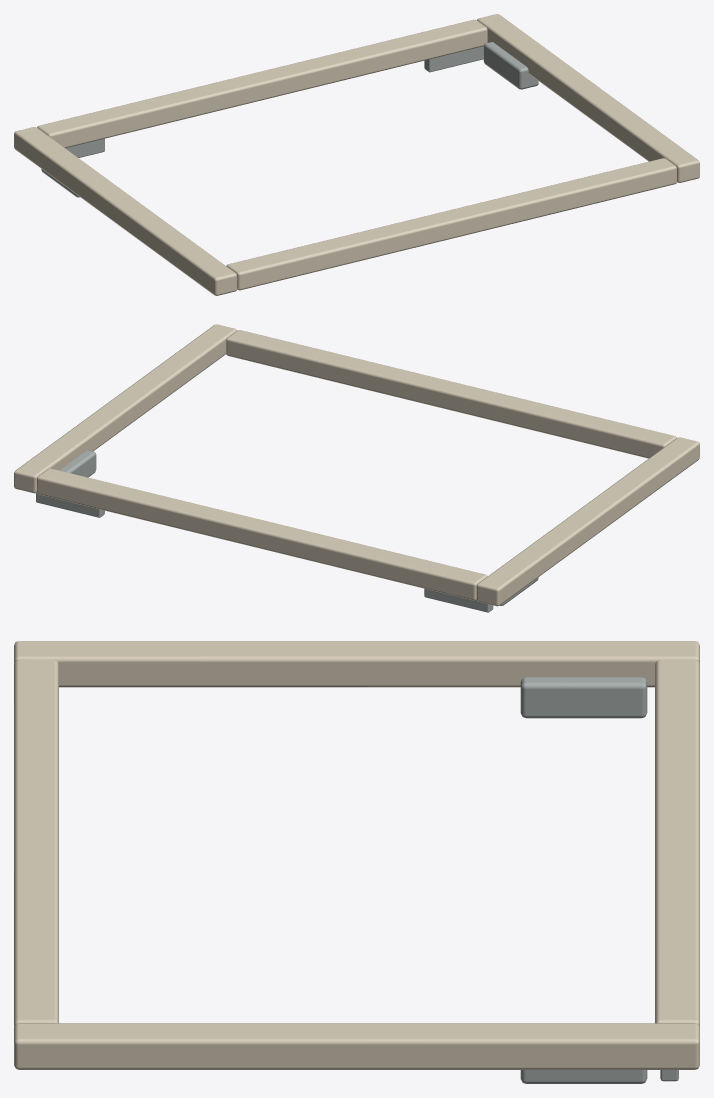
The model's file is museum-conservation-and-art-restoration-museum-conserv-e2537fd8__31880.glb.
3 views of the same model, one above another, from view 1: azimuth 30°, elevation 25°; view 2: azimuth 150°, elevation 25°; view 3: azimuth 270°, elevation 25° (orthographic). The views are drawn at different scales.
Parts seen in each view (by area): view 1: museum-conservation-and-art-restoration-canvas-tensioning-fr (×2); view 2: museum-conservation-and-art-restoration-canvas-tensioning-fr (×2); view 3: museum-conservation-and-art-restoration-canvas-tensioning-fr (×2).
Part boxes in pixels (box(x1,y1,x2,y2)): museum-conservation-and-art-restoration-canvas-tensioning-fr (×2): box(14, 14, 699, 295); museum-conservation-and-art-restoration-canvas-tensioning-fr (×2): box(14, 324, 699, 612); museum-conservation-and-art-restoration-canvas-tensioning-fr (×2): box(14, 641, 699, 1083).
Size of the model in its own units: 1.8 by 0.115 by 1.3.
